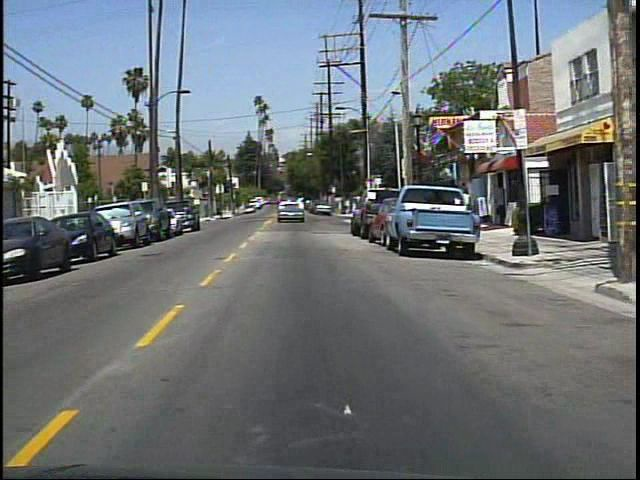person: (455, 186, 476, 232)
